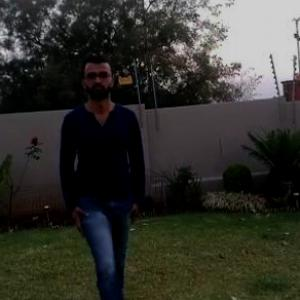follow: (64, 62, 146, 299)
